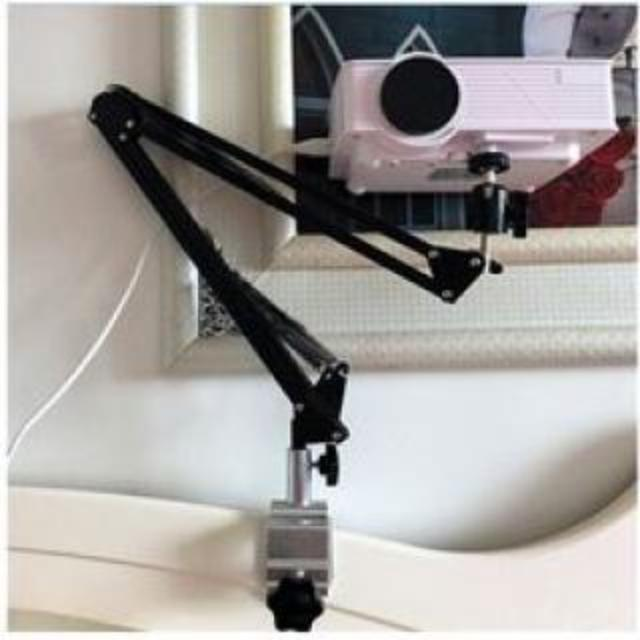Projector: (328, 62, 620, 188)
